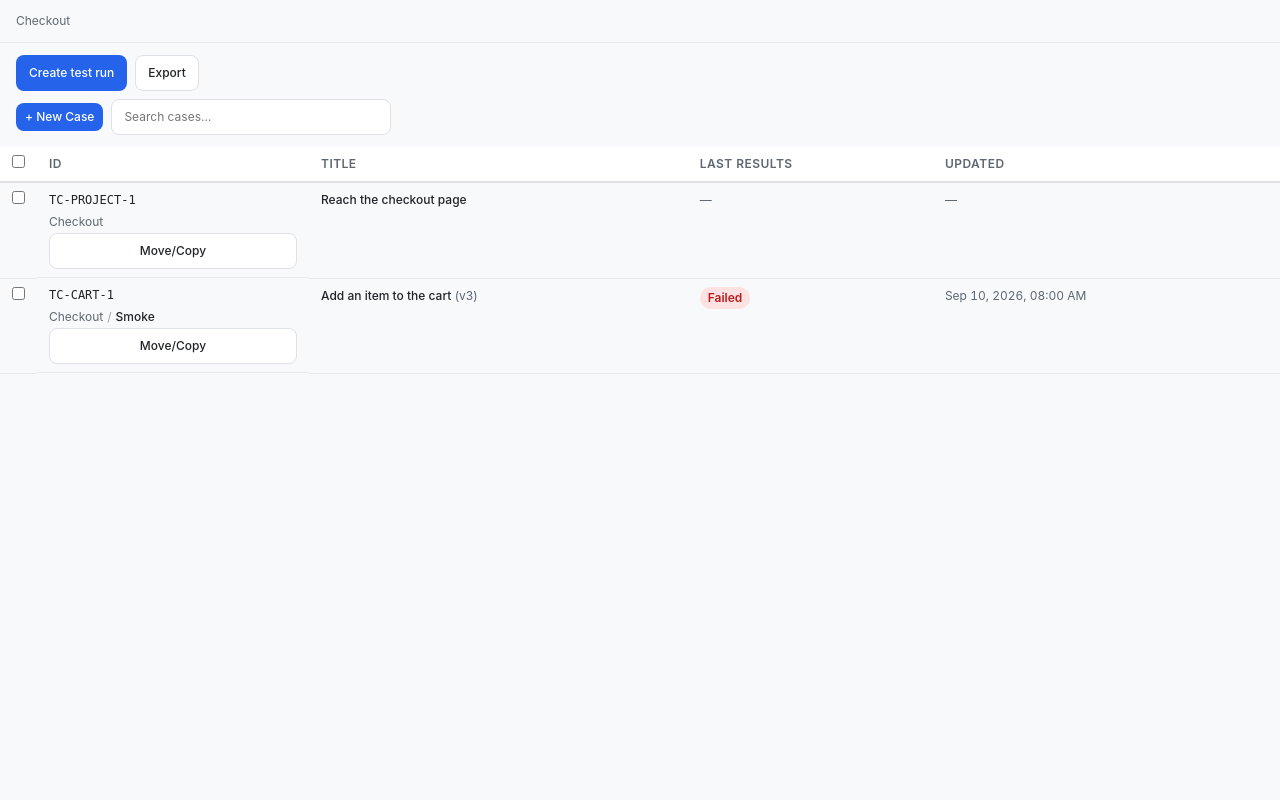
it: CaseList › the row action opens the placement dialog for that case (#181)
The width and height of the screenshot is (1280, 800).
Expected: the number of rows is 3, [0, 147, 1279, 182]; [0, 182, 1279, 278]; [0, 278, 1279, 373]
Click the button with aria-label "Move or copy TC-CART-1" at point(173, 346), box [49, 328, 297, 364]
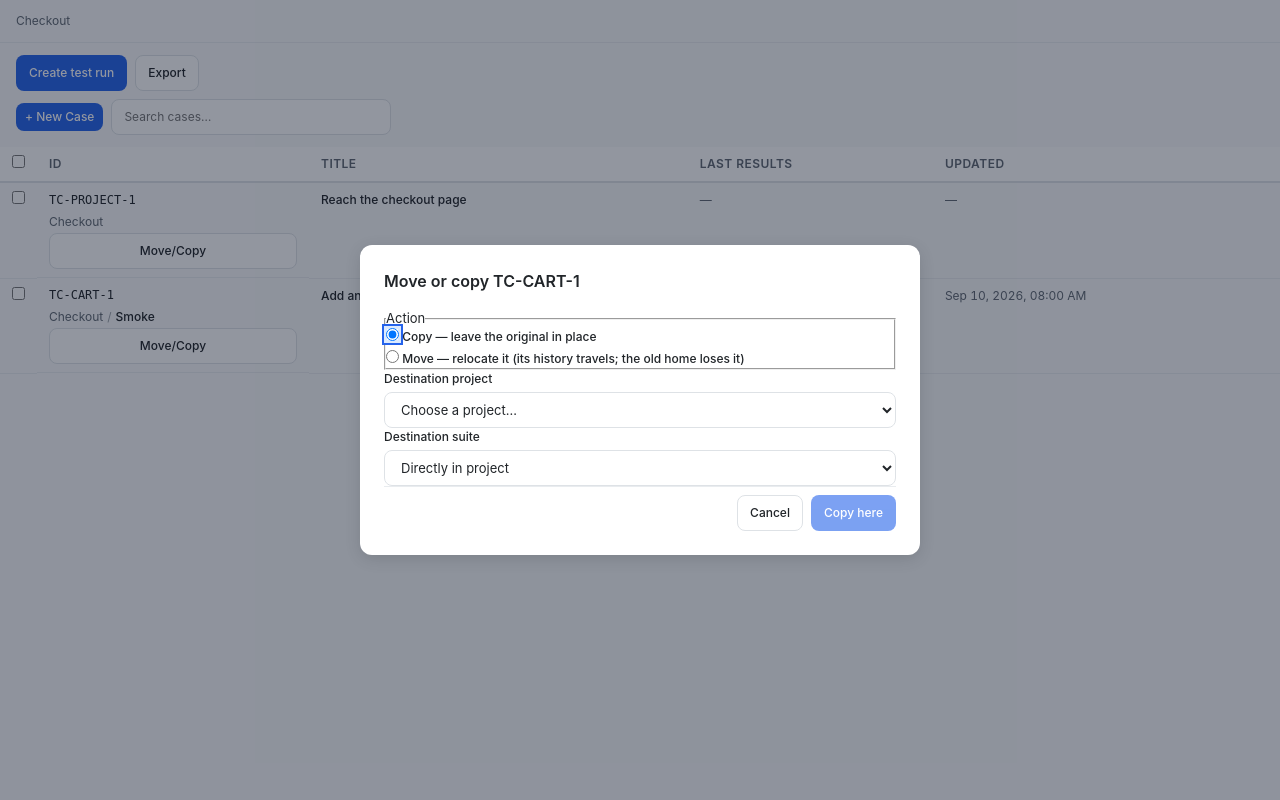
Now the radio button labelled "Copy — leave the original in place" is checked, box [386, 328, 399, 341]
Click the button "Cancel" at point(770, 513), box [737, 495, 803, 531]
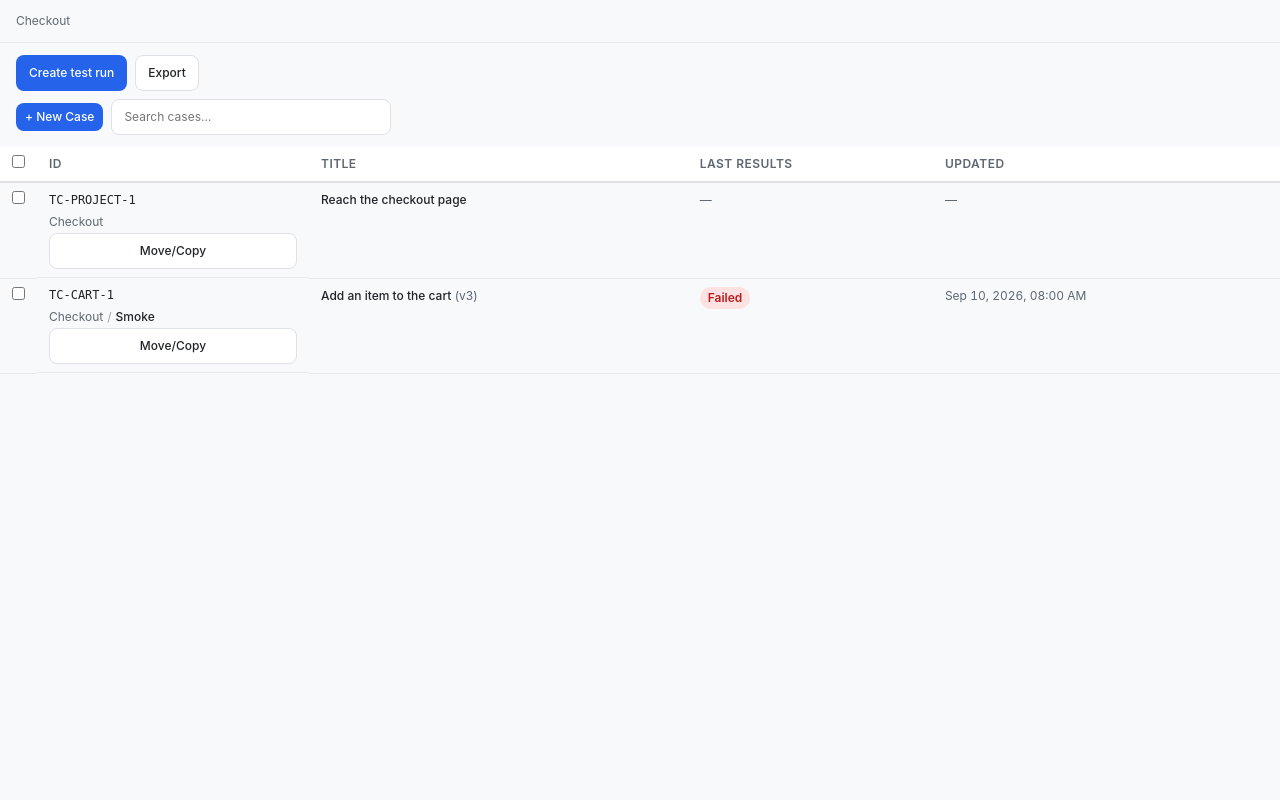
Now the heading "Move or copy TC-CART-1" is gone
